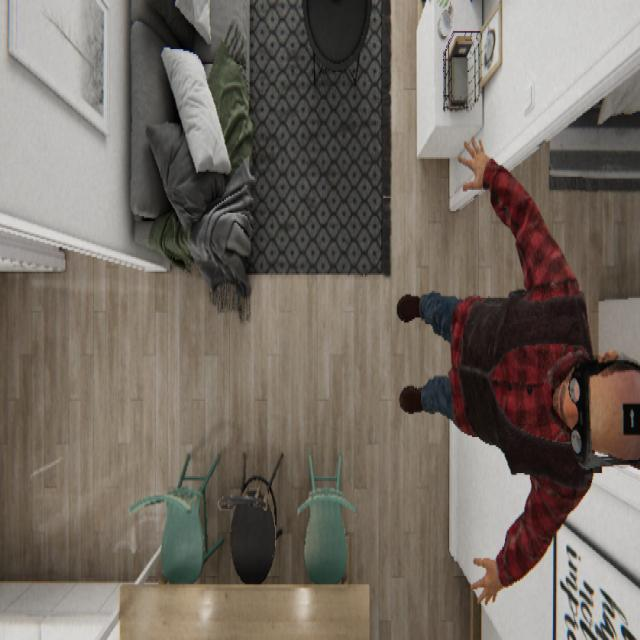Human: (396, 134, 638, 606)
UnityLogo: (621, 398, 638, 435)
